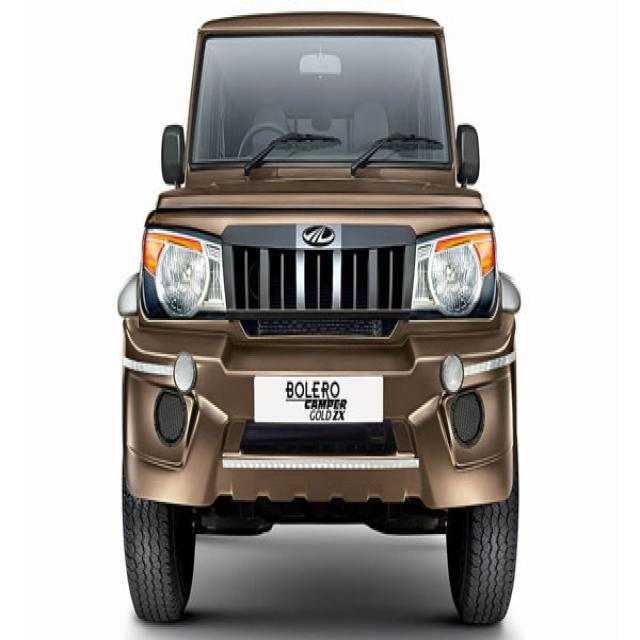light_vehicle: (120, 16, 523, 638)
